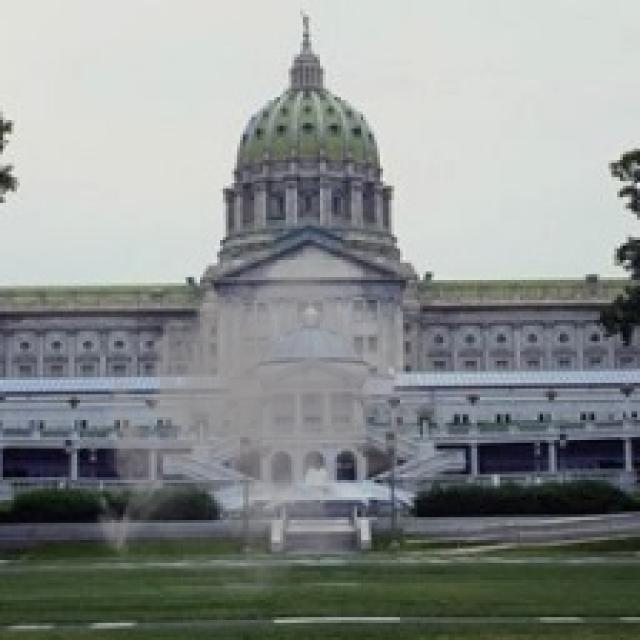Smoke: (86, 240, 446, 617)
